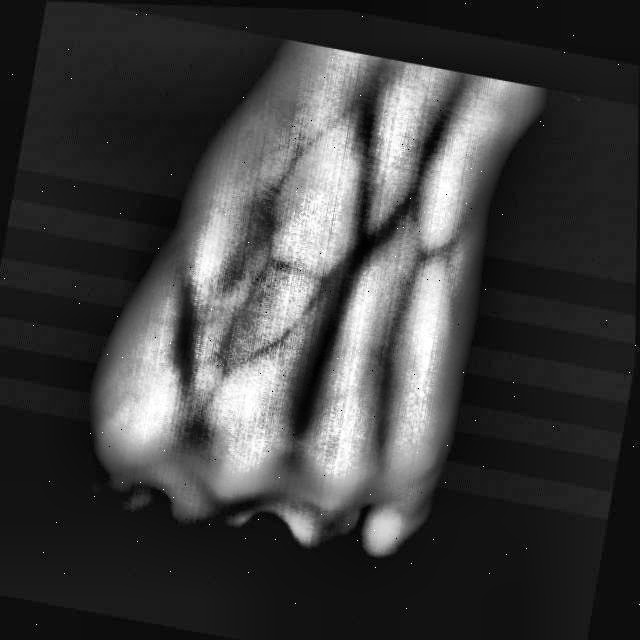Vein: (292, 245, 372, 407), (351, 55, 394, 231)
